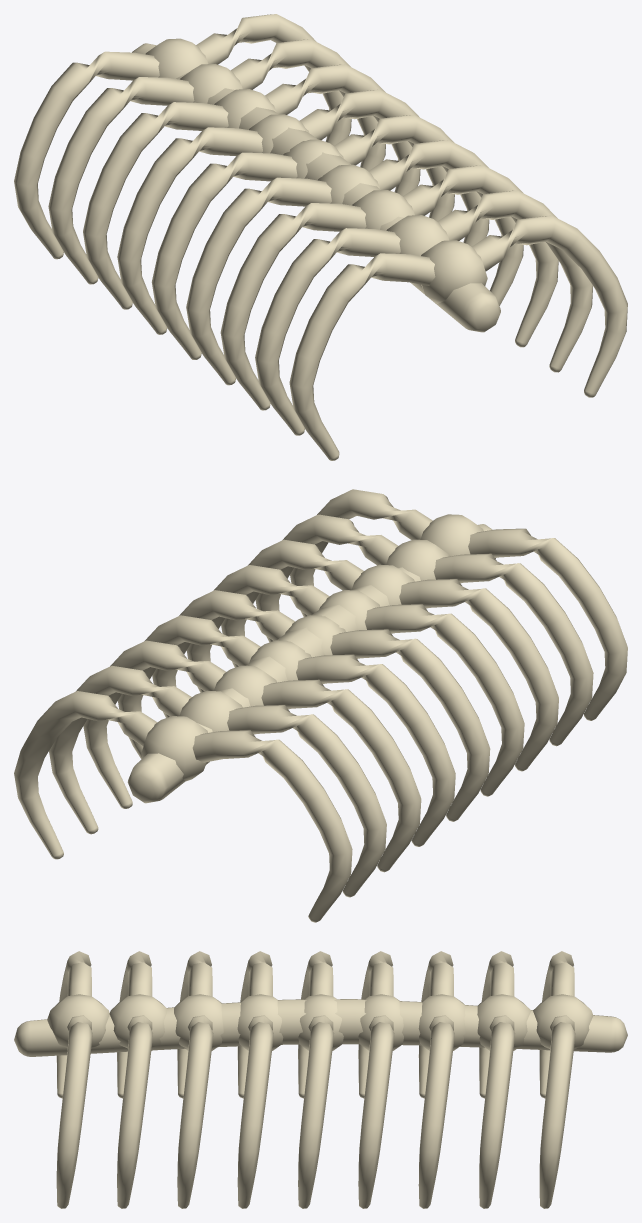
Rendered from primeval-frontier-ribcage-fossil-4699f231__1778.glb.
3 renders of one model, top to bottom at view 1: azimuth 30°, elevation 25°; view 2: azimuth 150°, elevation 25°; view 3: azimuth 270°, elevation 25°, orthographic. The views are drawn at different scales.
Visible parts, largest first — view 1: ribcage-fossil; view 2: ribcage-fossil; view 3: ribcage-fossil.
Part boxes in pixels (bbox=[...]): ribcage-fossil: bbox=[14, 14, 627, 460]; ribcage-fossil: bbox=[14, 489, 627, 922]; ribcage-fossil: bbox=[14, 951, 627, 1208].
Size of the model in its own units: 1.41 by 0.7357 by 2.54.
